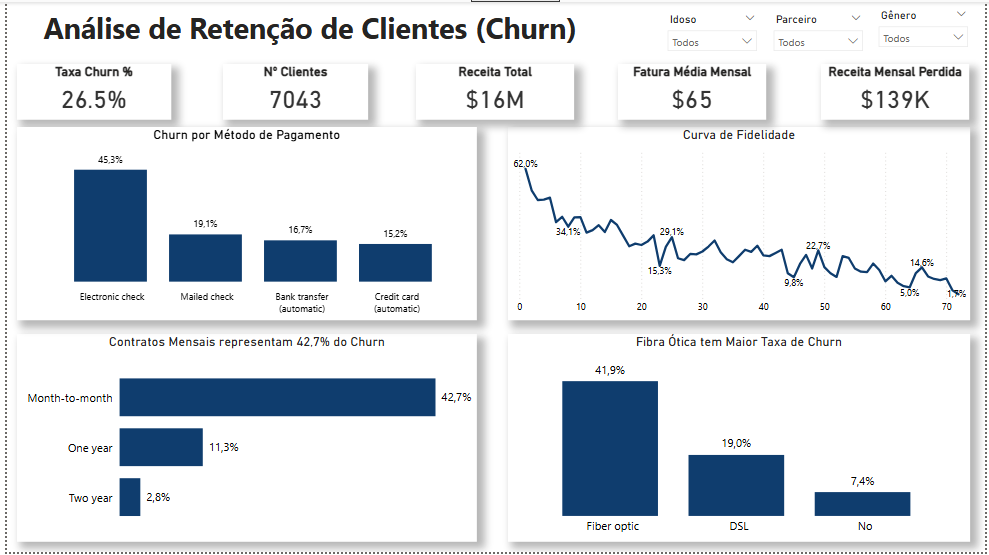

What the dashboard file says about the page in this screenshot:
{"tool":"powerbi","page":{"name":"Página 1","canvas":[1280,720],"ordinal":0},"visuals":[{"type":"clusteredBarChart","title":"Contratos Mensais representam 42,7% do Churn","fields":{"Category":["Telco-Customer-Churn.Contract"],"Y":["Medidas.%TaxaChurn"]},"box":[13,434.9,601.9,272.2],"z":0},{"type":"lineChart","title":"Curva de Fidelidade","fields":{"Y":["Medidas.%TaxaChurn"],"Category":["Telco-Customer-Churn.tenure"]},"box":[655.2,164.2,604.8,253.4],"z":1},{"type":"advanceCardE03760C5AB684758B56AA29F9E6C257B","title":"Taxa Churn %","fields":{"mainMeasure":["Medidas.%TaxaChurn"]},"box":[13,80.6,201.6,73.4],"z":3},{"type":"textbox","box":[13,4.3,767.5,61.9],"z":4},{"type":"advanceCardE03760C5AB684758B56AA29F9E6C257B","title":"Nº Clientes","fields":{"mainMeasure":["Medidas.TotalClientes"]},"box":[282.2,80.6,190.1,73.4],"z":5},{"type":"advanceCardE03760C5AB684758B56AA29F9E6C257B","title":"Receita Total","fields":{"mainMeasure":["Medidas.Faturamento"]},"box":[535.7,80.6,207.4,73.4],"z":6},{"type":"advanceCardE03760C5AB684758B56AA29F9E6C257B","title":"Fatura Média Mensal","fields":{"mainMeasure":["Medidas.Ticket Medio"]},"box":[799.2,80.6,194.4,73.4],"z":7},{"type":"columnChart","title":"Churn por Método de Pagamento","fields":{"Category":["Telco-Customer-Churn.PaymentMethod"],"Y":["Medidas.%TaxaChurn"]},"box":[13,164.2,601.9,253.4],"z":8},{"type":"clusteredColumnChart","title":"Fibra Ótica tem Maior Taxa de Churn","fields":{"Y":["Medidas.%TaxaChurn"],"Category":["Telco-Customer-Churn.InternetService"]},"box":[655.2,434.9,604.8,272.2],"z":9},{"type":"slicer","fields":{"Values":["Telco-Customer-Churn.gender"]},"box":[1131.4,4.3,137.1,57.1],"z":12},{"type":"slicer","fields":{"Values":["Telco-Customer-Churn.Partner"]},"box":[993.6,8.6,136.8,57.6],"z":13},{"type":"slicer","fields":{"Values":["Telco-Customer-Churn.SeniorCitizen"]},"box":[855.4,8.6,136.8,57.6],"z":15},{"type":"advanceCardE03760C5AB684758B56AA29F9E6C257B","title":"Receita Mensal Perdida","fields":{"mainMeasure":["Medidas.Receita Perdida Mensal"]},"box":[1065.6,80.6,194.4,73.4],"z":16}]}

Visuals, with their boxes in screenshot pixels (x1, y1, x2, y2), scaled from the page's 1280x720 canvas onto the 989x555 screenshot:
"Contratos Mensais representam 42,7% do Churn" clusteredBarChart: {"x1": 10, "y1": 335, "x2": 475, "y2": 545}
"Curva de Fidelidade" lineChart: {"x1": 506, "y1": 127, "x2": 974, "y2": 322}
"Taxa Churn %" advanceCardE03760C5AB684758B56AA29F9E6C257B: {"x1": 10, "y1": 62, "x2": 166, "y2": 119}
textbox: {"x1": 10, "y1": 3, "x2": 603, "y2": 51}
"Nº Clientes" advanceCardE03760C5AB684758B56AA29F9E6C257B: {"x1": 218, "y1": 62, "x2": 365, "y2": 119}
"Receita Total" advanceCardE03760C5AB684758B56AA29F9E6C257B: {"x1": 414, "y1": 62, "x2": 574, "y2": 119}
"Fatura Média Mensal" advanceCardE03760C5AB684758B56AA29F9E6C257B: {"x1": 618, "y1": 62, "x2": 768, "y2": 119}
"Churn por Método de Pagamento" columnChart: {"x1": 10, "y1": 127, "x2": 475, "y2": 322}
"Fibra Ótica tem Maior Taxa de Churn" clusteredColumnChart: {"x1": 506, "y1": 335, "x2": 974, "y2": 545}
slicer - Telco-Customer-Churn.gender: {"x1": 874, "y1": 3, "x2": 980, "y2": 47}
slicer - Telco-Customer-Churn.Partner: {"x1": 768, "y1": 7, "x2": 873, "y2": 51}
slicer - Telco-Customer-Churn.SeniorCitizen: {"x1": 661, "y1": 7, "x2": 767, "y2": 51}
"Receita Mensal Perdida" advanceCardE03760C5AB684758B56AA29F9E6C257B: {"x1": 823, "y1": 62, "x2": 974, "y2": 119}
